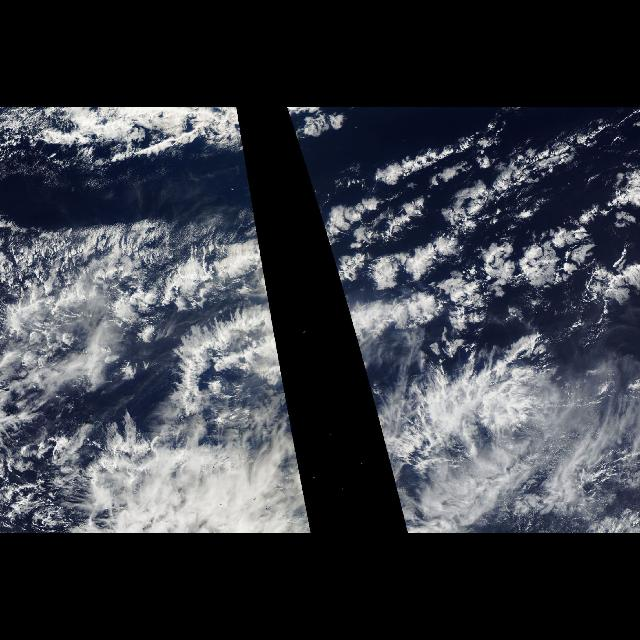Fish: (327, 237, 585, 415), (167, 237, 289, 415)
Flower: (314, 148, 638, 312)
